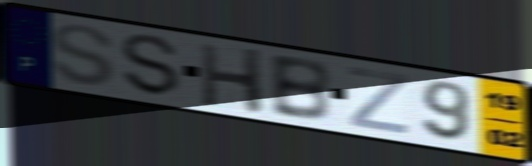9: (419, 78, 473, 144)
B: (266, 54, 334, 124)
H: (197, 41, 266, 117)
S: (49, 22, 118, 89), (119, 32, 183, 99)
Z: (346, 65, 410, 137)
